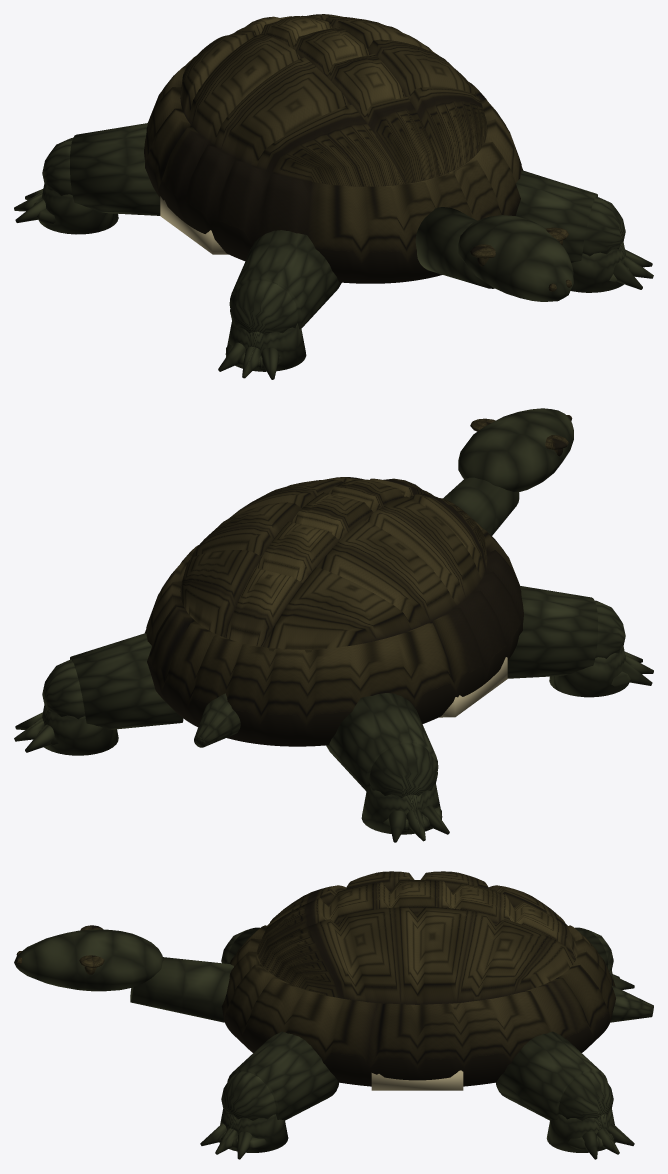
The model's file is turtle_dp_01.glb.
3 views of the same model, one above another, from view 1: azimuth 30°, elevation 25°; view 2: azimuth 150°, elevation 25°; view 3: azimuth 270°, elevation 25° (orthographic). The views are drawn at different scales.
Parts seen in each view (by area): view 1: turtle; view 2: turtle; view 3: turtle.
Boxes of the visible parts, bbox=[...] form: turtle: bbox=[14, 14, 653, 379]; turtle: bbox=[14, 408, 653, 842]; turtle: bbox=[14, 871, 653, 1159].
Bounding box in the file's own units: 0.5955 × 0.2806 × 0.868.
Materials: 3 (2 with a texture image).
